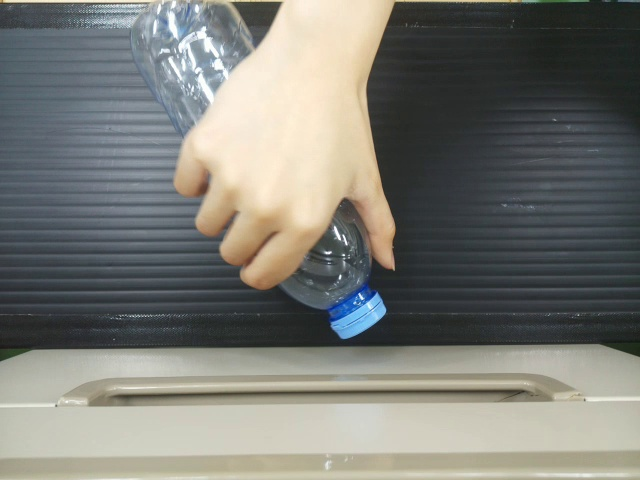bottle: (111, 0, 252, 135), (283, 202, 398, 344)
